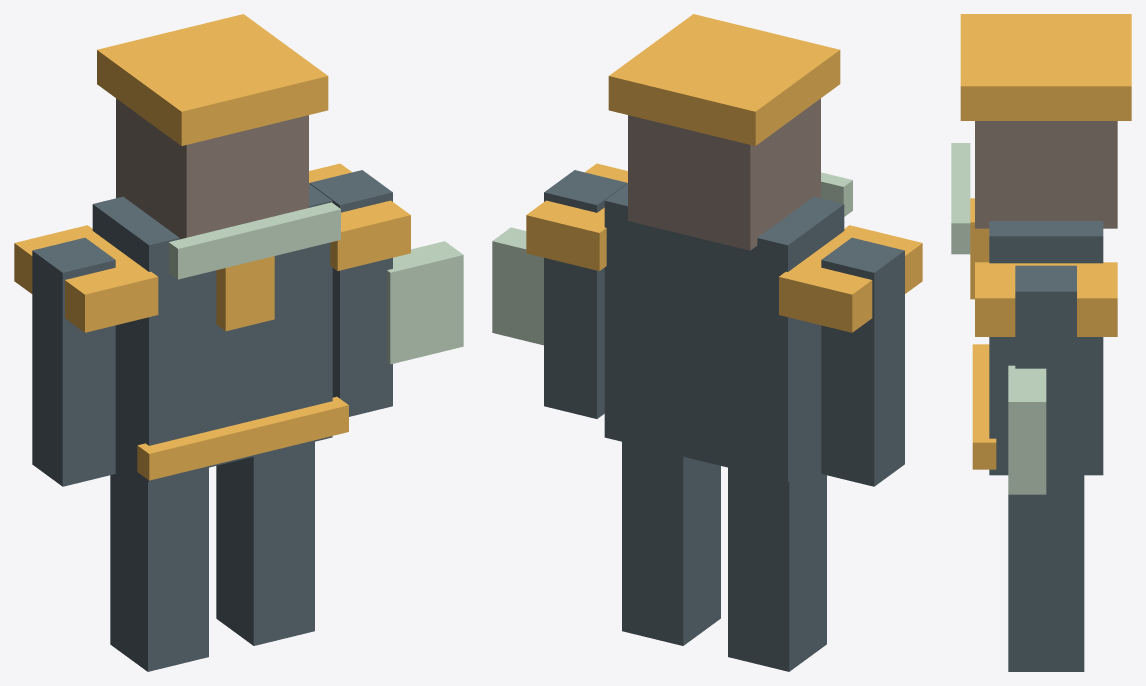
File: 13_maven_runeclasp_guide_at_freight.glb
3 views of the same model, side by side, from view 1: azimuth 30°, elevation 25°; view 2: azimuth 150°, elevation 25°; view 3: azimuth 270°, elevation 25° (orthographic).
Visible parts, largest first — view 1: Maven Runeclasp, Guide at Freight; view 2: Maven Runeclasp, Guide at Freight; view 3: Maven Runeclasp, Guide at Freight.
Part boxes in pixels (x1,y1,x2,y2): Maven Runeclasp, Guide at Freight: [14, 14, 463, 671]; Maven Runeclasp, Guide at Freight: [492, 14, 922, 671]; Maven Runeclasp, Guide at Freight: [951, 14, 1131, 671].
Bounding box in the file's own units: 1.07 × 1.48 × 0.4169.
